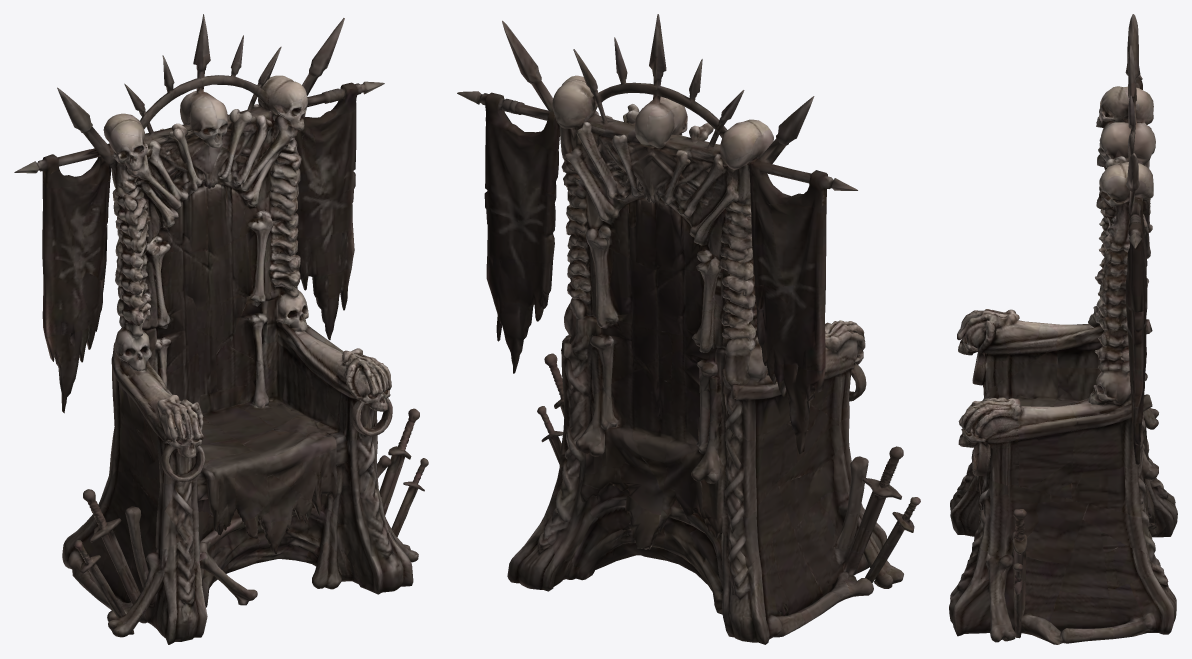
File: babylon_throne_dec.glb
3 views of the same model, side by side, from view 1: azimuth 30°, elevation 25°; view 2: azimuth 150°, elevation 25°; view 3: azimuth 270°, elevation 25° (orthographic). The views are drawn at different scales.
Parts seen in each view (by area): view 1: mesh_node; view 2: mesh_node; view 3: mesh_node.
Part boxes in pixels (x1,y1,x2,y2): mesh_node: [14, 14, 428, 644]; mesh_node: [457, 14, 920, 644]; mesh_node: [949, 14, 1177, 644].
Bounding box in the file's own units: 1.37 × 1.9 × 0.7396.
1 material, 1 textured.
